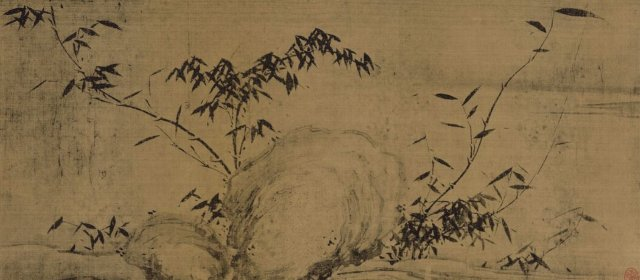bamboo: (2, 5, 374, 170), (404, 122, 577, 280)
hill: (122, 129, 403, 280)
